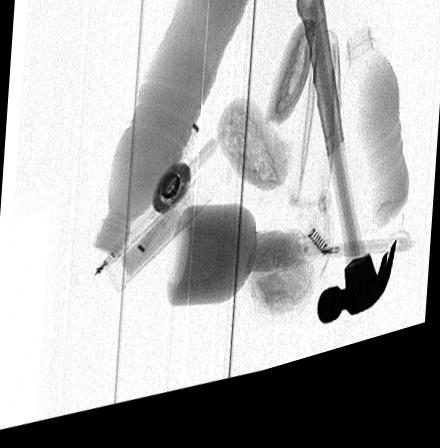Hammer: (295, 0, 397, 341)
